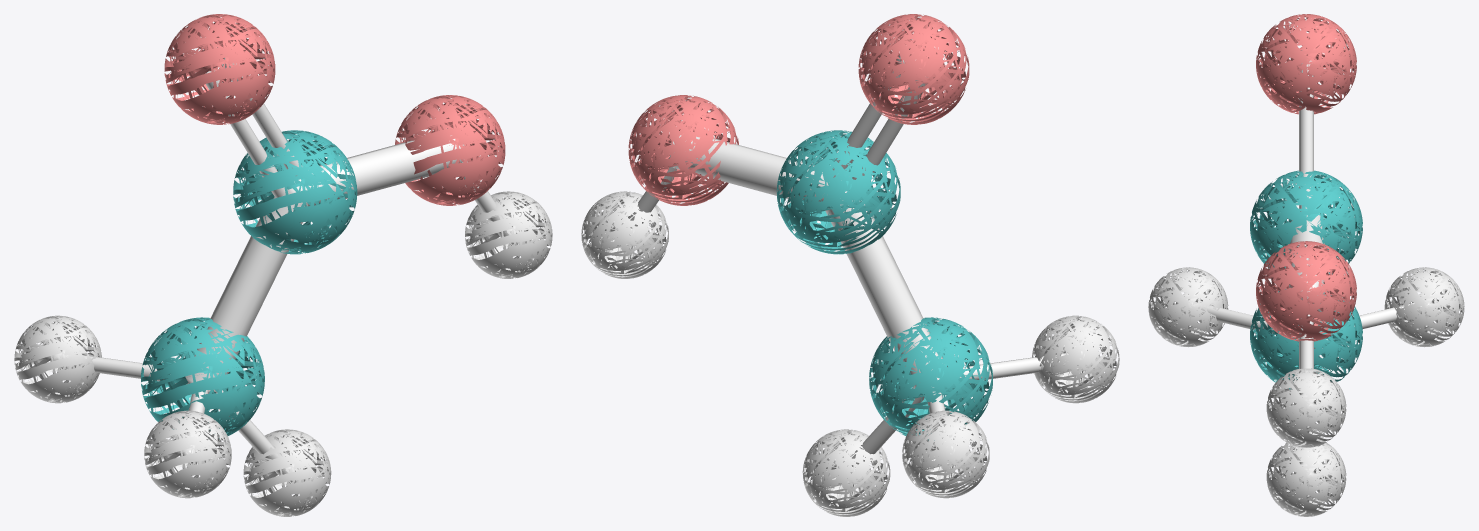
File: Acetic acid_171.gltf
3 renders of one model, left to right at view 1: azimuth 30°, elevation 25°; view 2: azimuth 150°, elevation 25°; view 3: azimuth 270°, elevation 25°, orthographic. The views are drawn at different scales.
Visible parts, largest first — view 1: node-geom11, node-geom10, node-geom9, node-geom8, node-geom12, node-geom13, node-geom15, node-geom14, node-geom4, node-geom0, node-geom3, node-geom6 (+2 smaller); view 2: node-geom11, node-geom10, node-geom9, node-geom8, node-geom13, node-geom12, node-geom15, node-geom14, node-geom4, node-geom0, node-geom5, node-geom3 (+2 smaller); view 3: node-geom8, node-geom9, node-geom11, node-geom15, node-geom13, node-geom12, node-geom14, node-geom10, node-geom2, node-geom5, node-geom0, node-geom6 (+1 smaller).
Boxes of the visible parts, x1,y1,x2,y2 form: node-geom11: (233, 130, 357, 254); node-geom10: (141, 317, 264, 438); node-geom9: (164, 14, 275, 124); node-geom8: (395, 95, 505, 205); node-geom12: (144, 410, 231, 498); node-geom13: (14, 315, 101, 403); node-geom15: (465, 191, 552, 278); node-geom14: (243, 429, 331, 516); node-geom4: (185, 191, 307, 393); node-geom0: (288, 135, 464, 206); node-geom3: (205, 70, 287, 197); node-geom6: (53, 354, 188, 384); node-geom11: (776, 130, 900, 254); node-geom10: (869, 317, 992, 440); node-geom9: (858, 14, 969, 124); node-geom8: (628, 95, 738, 205); node-geom13: (902, 410, 989, 498); node-geom12: (1032, 315, 1119, 403); node-geom15: (581, 191, 668, 278); node-geom14: (802, 429, 890, 516); node-geom4: (825, 191, 947, 388); node-geom0: (670, 135, 828, 202); node-geom5: (960, 352, 1080, 379); node-geom3: (849, 80, 927, 190); node-geom8: (1256, 241, 1356, 341); node-geom9: (1256, 14, 1356, 114); node-geom11: (1250, 170, 1362, 274); node-geom15: (1266, 368, 1346, 447); node-geom13: (1384, 267, 1464, 347); node-geom12: (1148, 267, 1228, 347); node-geom14: (1266, 439, 1346, 516); node-geom10: (1250, 289, 1362, 389); node-geom2: (1299, 60, 1313, 211); node-geom5: (1184, 301, 1275, 335); node-geom0: (1288, 215, 1324, 303); node-geom6: (1348, 302, 1428, 328).
Size of the model in its own units: 3.65e-10 by 3.85e-10 by 2.38e-10.
